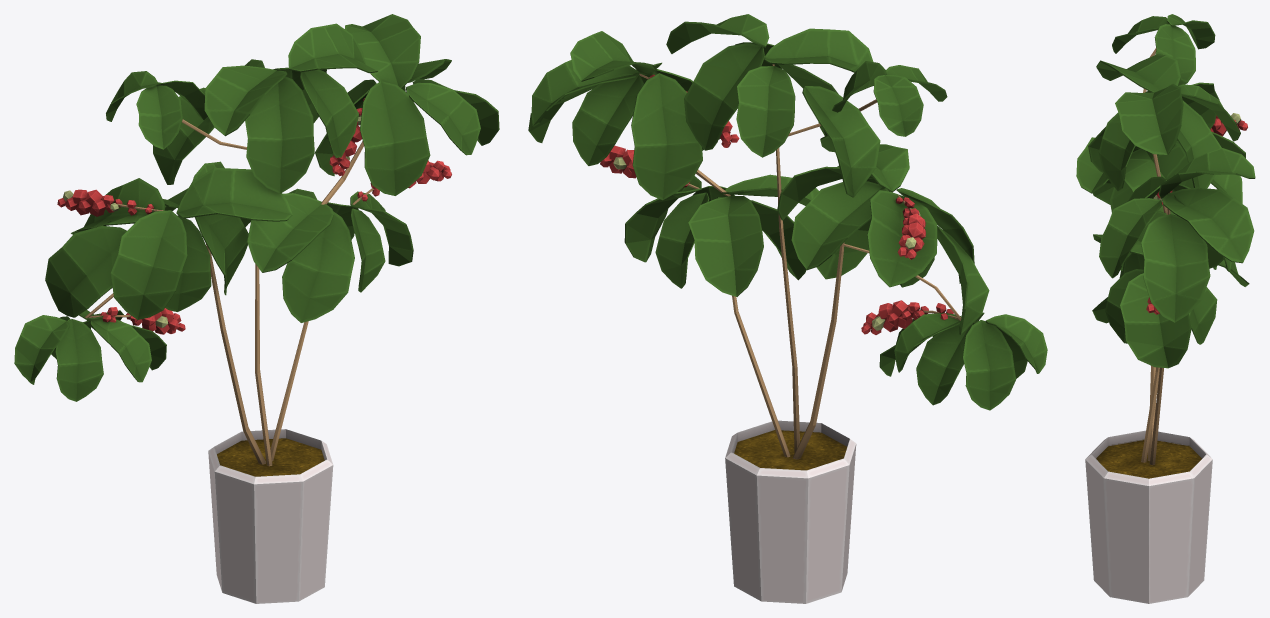
File: 0e74ebba-d767-453e-a190-5ab284fc7afe.glb
The picture shows the model from 3 angles, left to right: view 1: azimuth 30°, elevation 25°; view 2: azimuth 150°, elevation 25°; view 3: azimuth 270°, elevation 25°; orthographic projection. The views are drawn at different scales.
Visible parts, largest first — view 1: CoffePlant_mehs; view 2: CoffePlant_mehs; view 3: CoffePlant_mehs.
Part boxes in pixels (<box>): CoffePlant_mehs: <box>14,14,499,603</box>; CoffePlant_mehs: <box>528,14,1047,603</box>; CoffePlant_mehs: <box>1076,14,1255,603</box>.
Size of the model in its own units: 8.47 by 8.99 by 2.81.
1 material, 1 textured.
